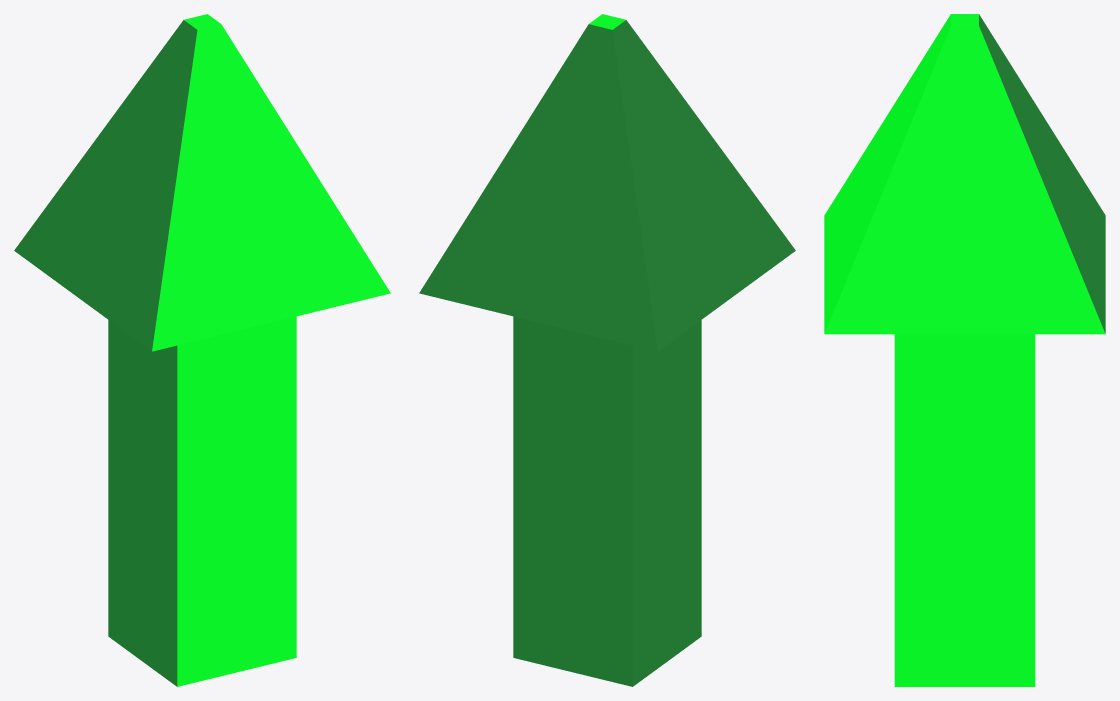
The model's file is debug_arrow.glb.
3 renders of one model, left to right at view 1: azimuth 30°, elevation 25°; view 2: azimuth 150°, elevation 25°; view 3: azimuth 270°, elevation 25°, orthographic.
Parts seen in each view (by area): view 1: Cube; view 2: Cube; view 3: Cube.
Part boxes in pixels (box(x1,y1,x2,y2)): Cube: box(14, 14, 390, 686); Cube: box(419, 14, 795, 686); Cube: box(824, 14, 1105, 686).
Bounding box in the file's own units: 0.2 × 0.5 × 0.2.
